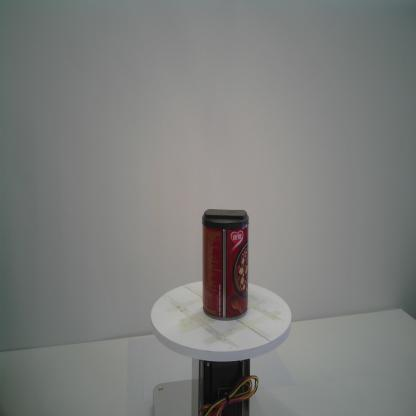Canned Food: (201, 207, 251, 321)
